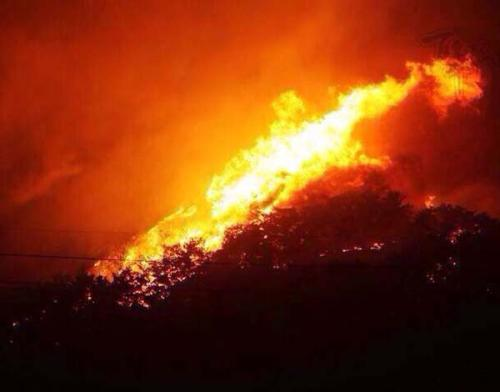fire: (207, 75, 402, 220)
